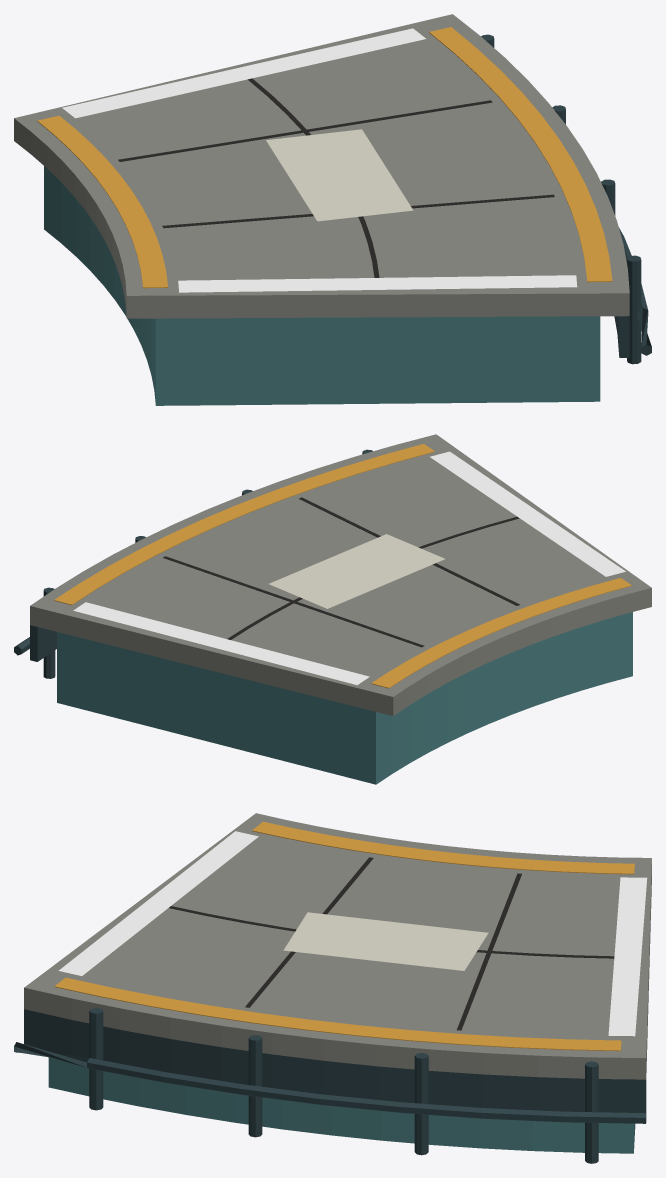
The model's file is core-ring-inner.glb.
3 views of the same model, one above another, from view 1: azimuth 30°, elevation 25°; view 2: azimuth 150°, elevation 25°; view 3: azimuth 270°, elevation 25° (orthographic). The views are drawn at different scales.
Parts seen in each view (by area): view 1: core-ring-inner__core-ring-inner__concrete, core-ring-inner__core-ring-inner__petrol, core-ring-inner__core-ring-inner__amber, core-ring-inner__core-ring-inner__decal-hazard, core-ring-inner__core-ring-inner__decal-ivory, core-ring-inner__core-ring-inner__steel, core-ring-inner__core-ring-inner__soot; view 2: core-ring-inner__core-ring-inner__concrete, core-ring-inner__core-ring-inner__petrol, core-ring-inner__core-ring-inner__amber, core-ring-inner__core-ring-inner__decal-hazard, core-ring-inner__core-ring-inner__decal-ivory, core-ring-inner__core-ring-inner__soot, core-ring-inner__core-ring-inner__steel; view 3: core-ring-inner__core-ring-inner__concrete, core-ring-inner__core-ring-inner__steel, core-ring-inner__core-ring-inner__petrol, core-ring-inner__core-ring-inner__amber, core-ring-inner__core-ring-inner__decal-hazard, core-ring-inner__core-ring-inner__decal-ivory, core-ring-inner__core-ring-inner__soot.
Part boxes in pixels (<box>): core-ring-inner__core-ring-inner__concrete: <box>14,14,629,318</box>; core-ring-inner__core-ring-inner__petrol: <box>44,166,600,405</box>; core-ring-inner__core-ring-inner__amber: <box>37,27,612,288</box>; core-ring-inner__core-ring-inner__decal-hazard: <box>62,28,577,292</box>; core-ring-inner__core-ring-inner__decal-ivory: <box>266,129,413,221</box>; core-ring-inner__core-ring-inner__steel: <box>481,34,651,364</box>; core-ring-inner__core-ring-inner__soot: <box>118,78,554,277</box>; core-ring-inner__core-ring-inner__concrete: <box>30,434,651,716</box>; core-ring-inner__core-ring-inner__petrol: <box>57,612,632,784</box>; core-ring-inner__core-ring-inner__amber: <box>54,444,631,688</box>; core-ring-inner__core-ring-inner__decal-hazard: <box>73,451,625,685</box>; core-ring-inner__core-ring-inner__decal-ivory: <box>269,534,444,608</box>; core-ring-inner__core-ring-inner__soot: <box>163,497,519,647</box>; core-ring-inner__core-ring-inner__steel: <box>14,449,372,678</box>; core-ring-inner__core-ring-inner__concrete: <box>24,813,651,1079</box>; core-ring-inner__core-ring-inner__steel: <box>14,1008,646,1163</box>; core-ring-inner__core-ring-inner__petrol: <box>48,1057,635,1153</box>; core-ring-inner__core-ring-inner__amber: <box>54,821,634,1051</box>; core-ring-inner__core-ring-inner__decal-hazard: <box>58,831,647,1036</box>; core-ring-inner__core-ring-inner__decal-ivory: <box>283,912,488,970</box>; core-ring-inner__core-ring-inner__soot: <box>169,857,614,1030</box>.
Bounding box in the file's own units: 3.04 × 0.606 × 3.23.
